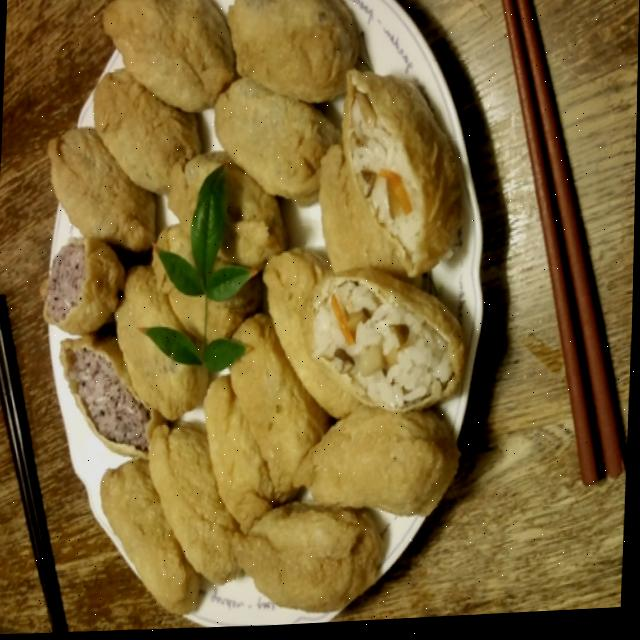寿司卷物: (0, 0, 518, 640)
